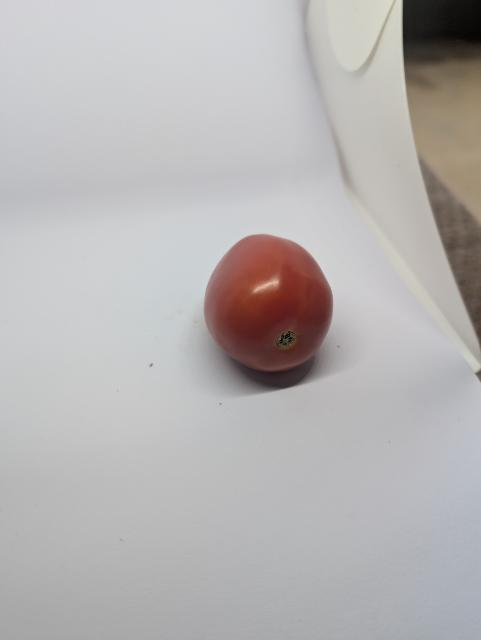red: (203, 224, 335, 393)
